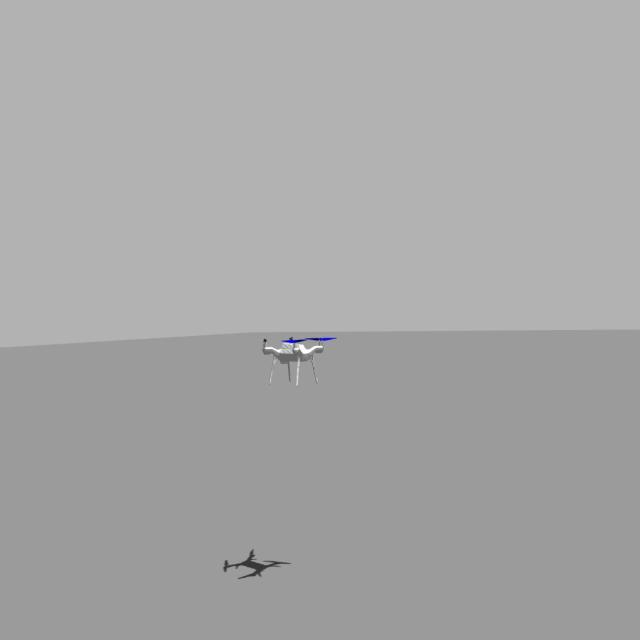Drone: (260, 324, 334, 389)
